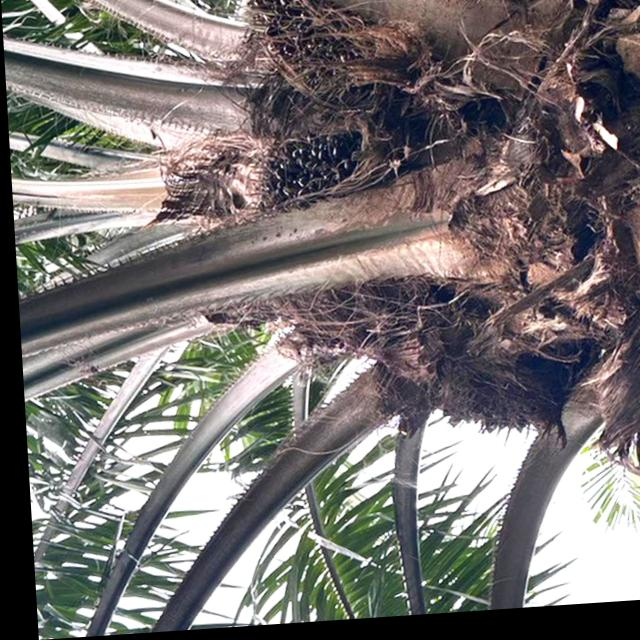almost: (234, 0, 428, 122)
unripe: (236, 124, 406, 244)
